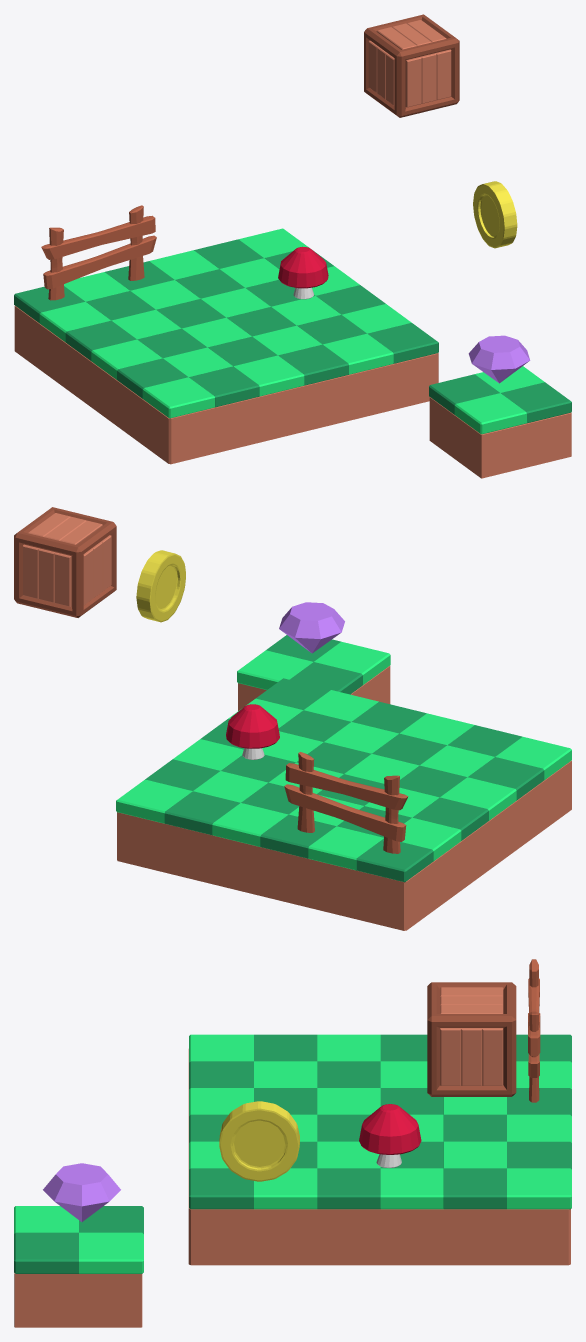
Rendered from gameass.fbx.
3 views of the same model, one above another, from view 1: azimuth 30°, elevation 25°; view 2: azimuth 150°, elevation 25°; view 3: azimuth 270°, elevation 25° (orthographic). The views are drawn at different scales.
Visible parts, largest first — view 1: Cube_Cube.001, Cube.006_Cube.017, Cube.001_Cube.005, Cube.005_Cube.013, Cylinder, Cone, Cylinder.001; view 2: Cube_Cube.001, Cube.001_Cube.005, Cube.006_Cube.017, Cube.005_Cube.013, Cylinder, Cone, Cylinder.001; view 3: Cube_Cube.001, Cube.006_Cube.017, Cube.001_Cube.005, Cylinder, Cone, Cylinder.001, Cube.005_Cube.013.
Boxes of the visible parts, x1,y1,x2,y2 form: Cube_Cube.001: (14,228,438,464); Cube.006_Cube.017: (429,366,571,478); Cube.001_Cube.005: (364,14,459,117); Cube.005_Cube.013: (41,205,156,300); Cylinder: (473,181,517,248); Cone: (468,335,530,383); Cylinder.001: (278,246,328,299); Cube_Cube.001: (116,678,571,930); Cube.001_Cube.005: (14,507,116,617); Cube.006_Cube.017: (237,635,390,710); Cube.005_Cube.013: (284,752,408,853); Cylinder: (136,550,185,622); Cone: (279,602,344,653); Cylinder.001: (226,704,279,759); Cube_Cube.001: (188,1034,571,1265); Cube.006_Cube.017: (14,1206,143,1327); Cube.001_Cube.005: (427,982,516,1096); Cylinder: (219,1101,299,1181); Cone: (43,1163,120,1221); Cylinder.001: (359,1104,421,1168); Cube.005_Cube.013: (528,959,540,1102).
Bounding box in the file's own units: 572 × 394 × 579.
